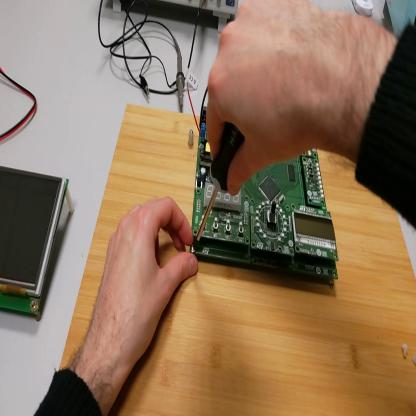hand: (208, 2, 341, 196), (91, 197, 197, 370)
low voltage board: (188, 82, 339, 282)
oscilloscope: (113, 1, 238, 32)
oscilloscope probe tip: (174, 43, 187, 109)
screwdriver-: (193, 122, 247, 252)
welder station: (382, 2, 415, 39)
working area: (61, 106, 416, 416)
